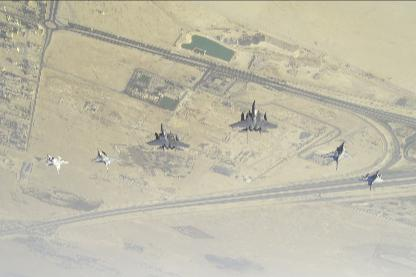F117: (230, 100, 278, 144), (147, 122, 191, 160)
Mirage2000: (359, 170, 384, 191), (46, 154, 70, 174)
RQ4: (321, 142, 355, 170), (90, 148, 121, 172)
